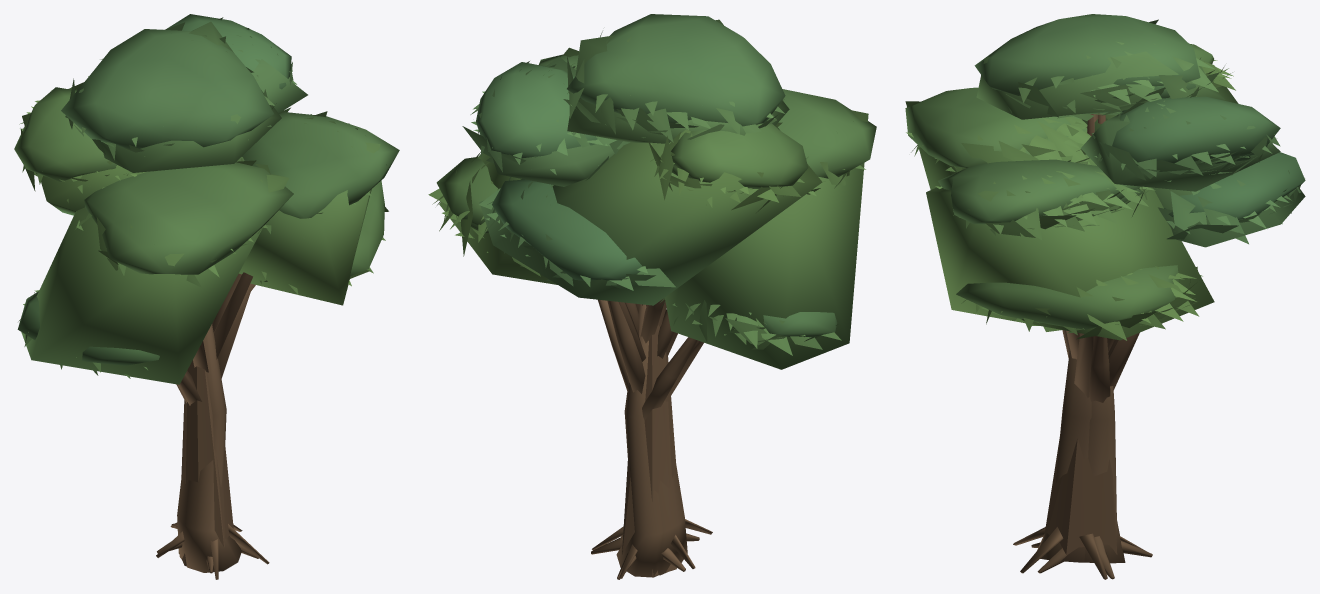
File: Broadleaf.glb
The picture shows the model from 3 angles, left to right: view 1: azimuth 30°, elevation 25°; view 2: azimuth 150°, elevation 25°; view 3: azimuth 270°, elevation 25°; orthographic projection. The views are drawn at different scales.
Parts seen in each view (by area): view 1: Broadleaf_L1, Broadleaf_L2, Broadleaf_L0; view 2: Broadleaf_L2, Broadleaf_L1, Broadleaf_L0; view 3: Broadleaf_L1, Broadleaf_L2, Broadleaf_L0.
Boxes of the visible parts, x1,y1,x2,y2 form: Broadleaf_L1: (14,14,399,579); Broadleaf_L2: (21,21,380,566); Broadleaf_L0: (18,17,388,573); Broadleaf_L2: (439,19,868,576); Broadleaf_L1: (436,14,876,578); Broadleaf_L0: (428,27,865,579); Broadleaf_L1: (905,14,1305,579); Broadleaf_L2: (905,51,1305,554); Broadleaf_L0: (906,19,1300,579).
Size of the model in its own units: 6 by 8 by 5.5.
